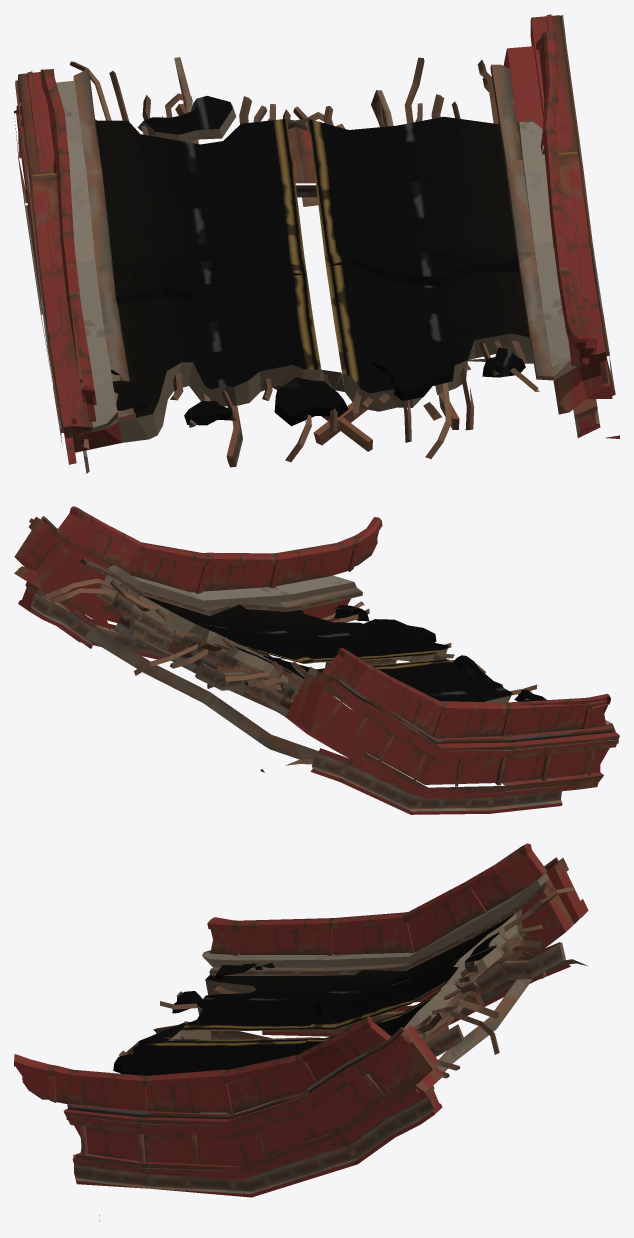
File: Houses111.obj
3 renders of one model, top to bottom at view 1: azimuth 30°, elevation 25°; view 2: azimuth 150°, elevation 25°; view 3: azimuth 270°, elevation 25°, orthographic. The views are drawn at different scales.
Visible parts, largest first — view 1: Mesh; view 2: Mesh; view 3: Mesh.
Part boxes in pixels (x1,y1,x2,y2): Mesh: (14,14,619,473); Mesh: (14,506,619,814); Mesh: (14,843,588,1221).
Size of the model in its own units: 26.08 by 11.23 by 25.51.
